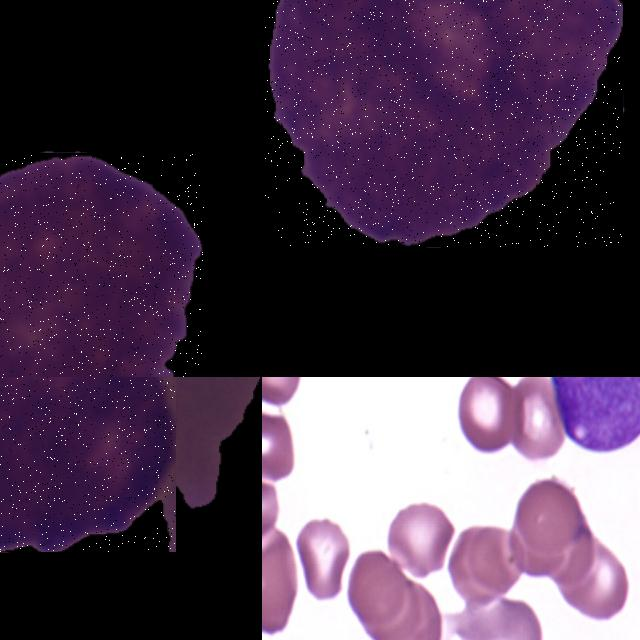ALL Negative Cells: (0, 154, 203, 377)
ALL Positive Cell: (264, 0, 623, 247), (0, 377, 175, 551), (550, 377, 640, 454)
